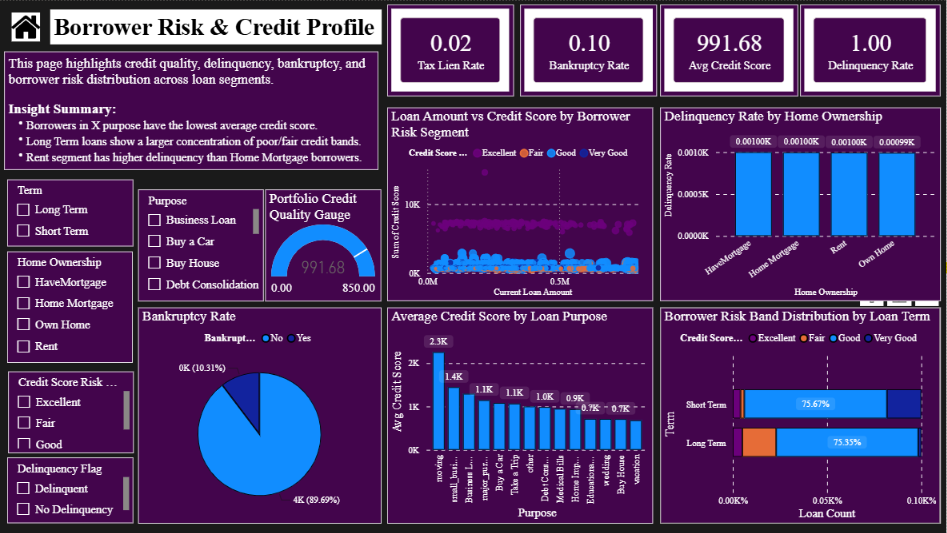

The page's visual inventory and layout, read from the dashboard file:
{"tool":"powerbi","page":{"name":"Borrower Risk & Credit Profile","canvas":[1280,720],"ordinal":2},"visuals":[{"type":"cardVisual","title":"Avg Credit Score","fields":{"Data":["credit_test.Avg Credit Score"]},"box":[892.8,5.6,186.2,124.2],"z":0},{"type":"cardVisual","title":"Bankruptcy Rate","fields":{"Data":["credit_test.Delinquency Rate"]},"box":[1082.5,5.6,189.6,124.2],"z":1000},{"type":"cardVisual","title":"Avg Credit Problems","fields":{"Data":["credit_test.Bankruptcy Rate"]},"box":[704.3,5.6,185.1,124.2],"z":2000},{"type":"slicer","fields":{"Values":["credit_test.Term"]},"box":[10.2,241.6,170.4,90.3],"z":3000},{"type":"slicer","fields":{"Values":["credit_test.Purpose"]},"box":[188.5,255.1,169.3,151.3],"z":4000},{"type":"slicer","fields":{"Values":["credit_test.Home Ownership"]},"box":[10.4,339.4,169.7,150.3],"z":5000},{"type":"clusteredColumnChart","title":"Average Credit Score by Loan Purpose","fields":{"Category":["credit_test.Purpose"],"Y":["credit_test.Avg Credit Score"]},"box":[524.9,414.3,358.9,292.3],"z":6000},{"type":"cardVisual","title":"Delinquency Flag","fields":{"Data":["credit_test.Tax Lien Rate"]},"box":[524.9,5.6,171.6,124.2],"z":7000},{"type":"slicer","fields":{"Values":["credit_test.Credit Score Risk Band"]},"box":[11.7,501.4,169.7,110.1],"z":8000},{"type":"hundredPercentStackedBarChart","title":"Borrower Risk Band Distribution by Loan Term","fields":{"Series":["credit_test.Credit Score Risk Band"],"Category":["credit_test.Term"],"Y":["credit_test.Loan Count"]},"box":[892.8,414.3,379.3,292.3],"z":9000},{"type":"clusteredColumnChart","title":"Delinquency Rate by Home Ownership","fields":{"Category":["credit_test.Home Ownership"],"Y":["credit_test.Delinquency Rate"]},"box":[892.8,144.5,379.3,261.9],"z":10000},{"type":"scatterChart","title":"Loan Amount vs Credit Score by Borrower Risk Segment","fields":{"X":["credit_test.Current Loan Amount"],"Series":["credit_test.Credit Score Risk Band"],"Size":["Sum(credit_test.Annual Income)"],"Y":["Sum(credit_test.Credit Score)"]},"box":[524.9,144.5,358.9,261.9],"z":11000},{"type":"pieChart","title":"Bankruptcy Rate","fields":{"Category":["credit_test.Bankruptcy Flag"],"Y":["credit_test.Loan Count"]},"box":[188.5,414.3,328.5,292.3],"z":12000},{"type":"gauge","title":"Portfolio Credit Quality Gauge","fields":{"Y":["credit_test.Avg Credit Score"]},"box":[360,255.2,157.2,151.3],"z":13000},{"type":"slicer","fields":{"Values":["credit_test.Delinquency Flag"]},"box":[10.2,617.4,170.4,89.2],"z":14000},{"type":"image","box":[0,16.1,71.8,38.9],"z":15000},{"type":"textbox","box":[69.3,11.8,447.9,47.3],"z":16000},{"type":"textbox","box":[6.4,68.8,505.6,160],"z":17000}]}

Visuals, with their boxes in screenshot pixels (x1, y1, x2, y2), scaled from the page's 1280x720 canvas onto the 947x533 screenshot:
"Avg Credit Score" cardVisual: bbox(661, 4, 798, 96)
"Bankruptcy Rate" cardVisual: bbox(801, 4, 941, 96)
"Avg Credit Problems" cardVisual: bbox(521, 4, 658, 96)
slicer - credit_test.Term: bbox(8, 179, 134, 246)
slicer - credit_test.Purpose: bbox(139, 189, 265, 301)
slicer - credit_test.Home Ownership: bbox(8, 251, 133, 363)
"Average Credit Score by Loan Purpose" clusteredColumnChart: bbox(388, 307, 654, 523)
"Delinquency Flag" cardVisual: bbox(388, 4, 515, 96)
slicer - credit_test.Credit Score Risk Band: bbox(9, 371, 134, 453)
"Borrower Risk Band Distribution by Loan Term" hundredPercentStackedBarChart: bbox(661, 307, 941, 523)
"Delinquency Rate by Home Ownership" clusteredColumnChart: bbox(661, 107, 941, 301)
"Loan Amount vs Credit Score by Borrower Risk Segment" scatterChart: bbox(388, 107, 654, 301)
"Bankruptcy Rate" pieChart: bbox(139, 307, 382, 523)
"Portfolio Credit Quality Gauge" gauge: bbox(266, 189, 383, 301)
slicer - credit_test.Delinquency Flag: bbox(8, 457, 134, 523)
image: bbox(0, 12, 53, 41)
textbox: bbox(51, 9, 383, 44)
textbox: bbox(5, 51, 379, 169)
